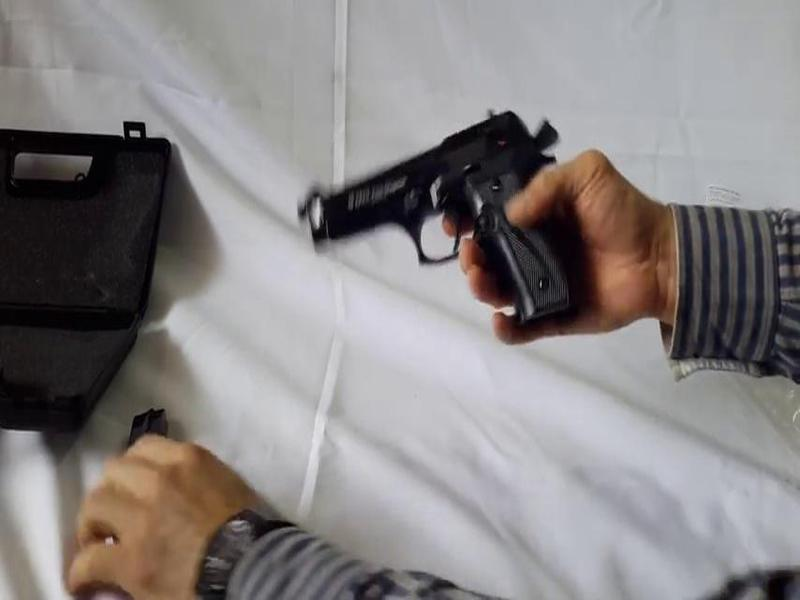Pistola: (271, 94, 615, 352)
